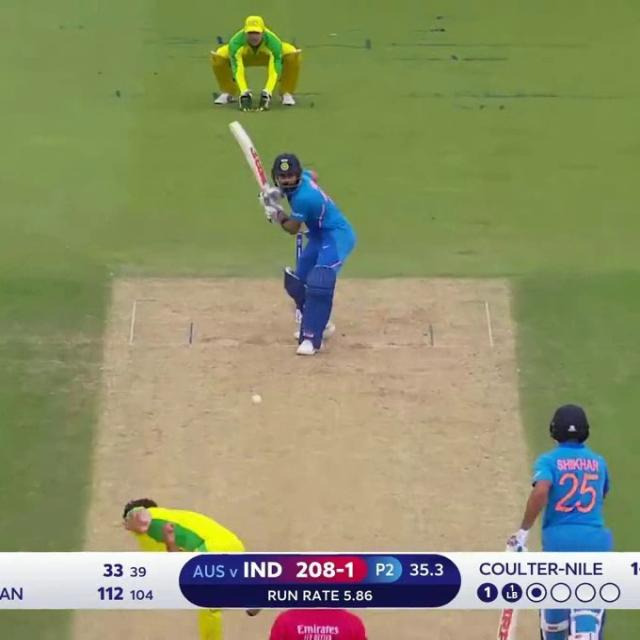bat: (221, 121, 275, 190), (495, 608, 522, 639)
toe: (227, 121, 241, 127)
